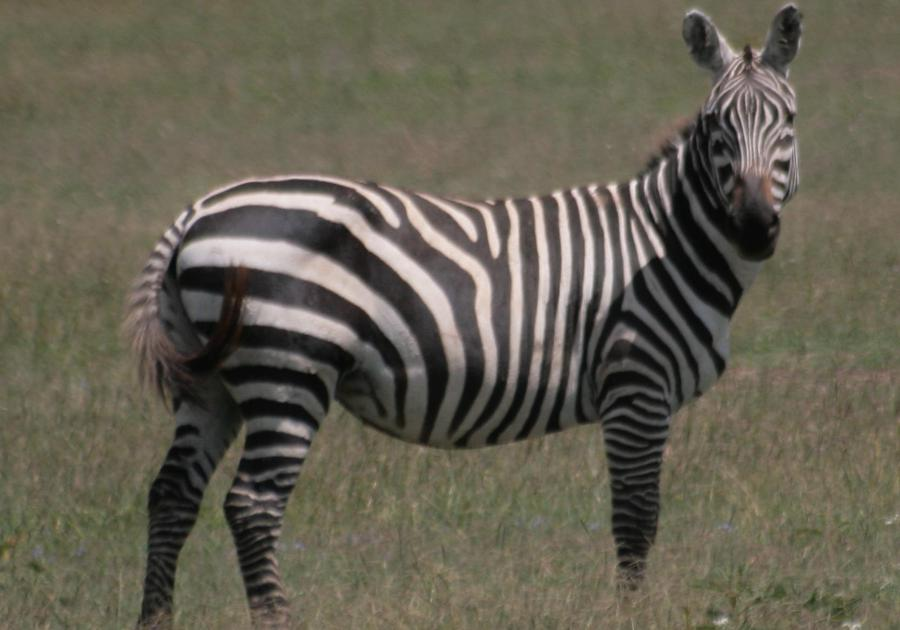zebra_plains: (196, 140, 734, 464)
